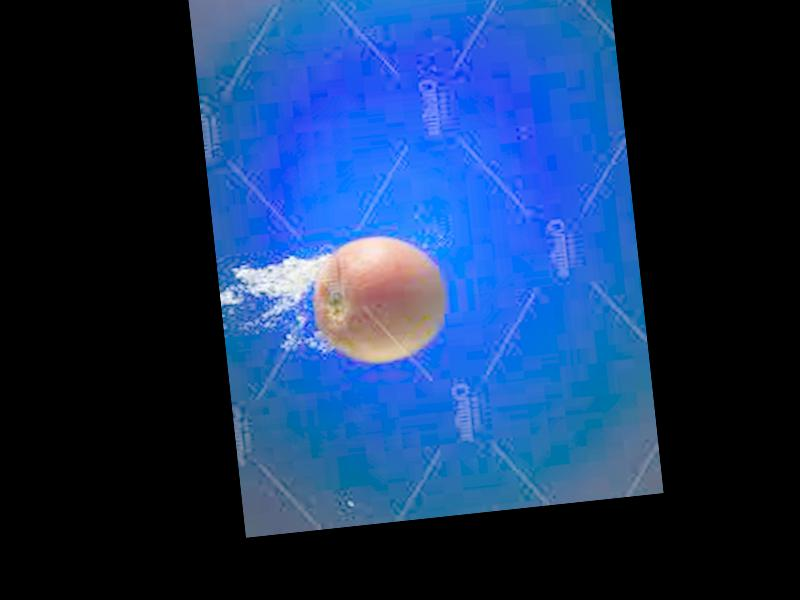Tomato: (307, 231, 448, 370)
